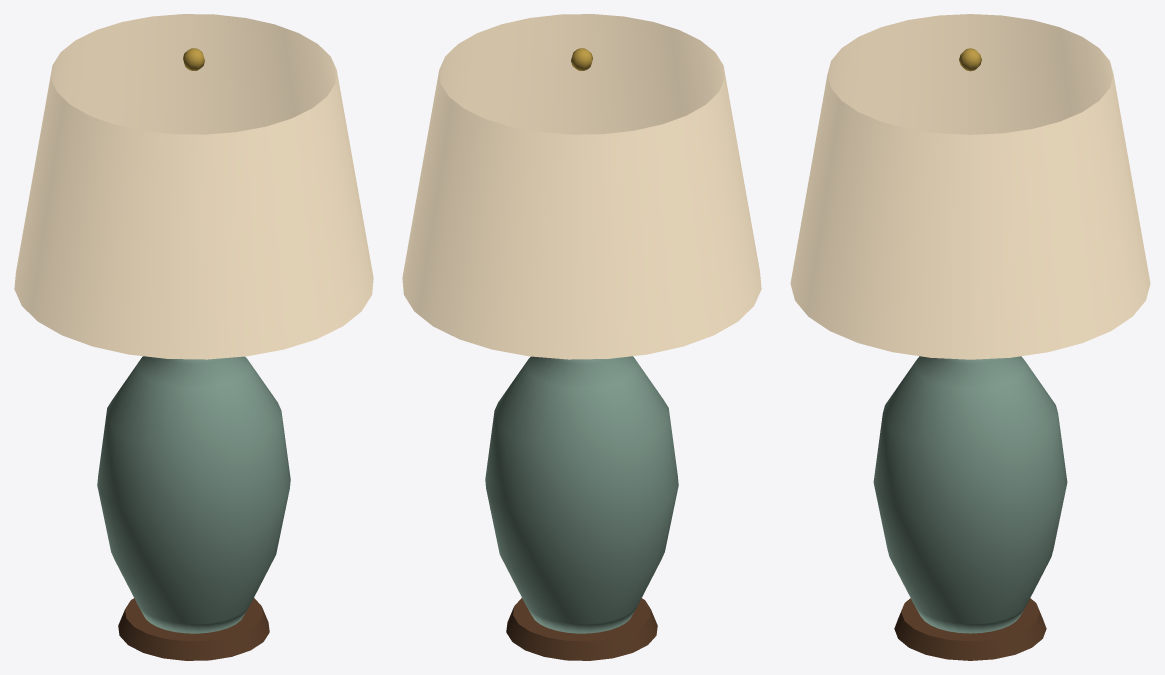
File: lamp-living.glb
The picture shows the model from 3 angles, left to right: view 1: azimuth 30°, elevation 25°; view 2: azimuth 150°, elevation 25°; view 3: azimuth 270°, elevation 25°; orthographic projection.
Visible parts, largest first — view 1: lamp-living; view 2: lamp-living; view 3: lamp-living.
Part boxes in pixels (x1,y1,x2,y2): lamp-living: (14,14,373,660); lamp-living: (402,14,761,660); lamp-living: (790,14,1150,660).
Size of the model in its own units: 1.56 by 2.77 by 1.56.
